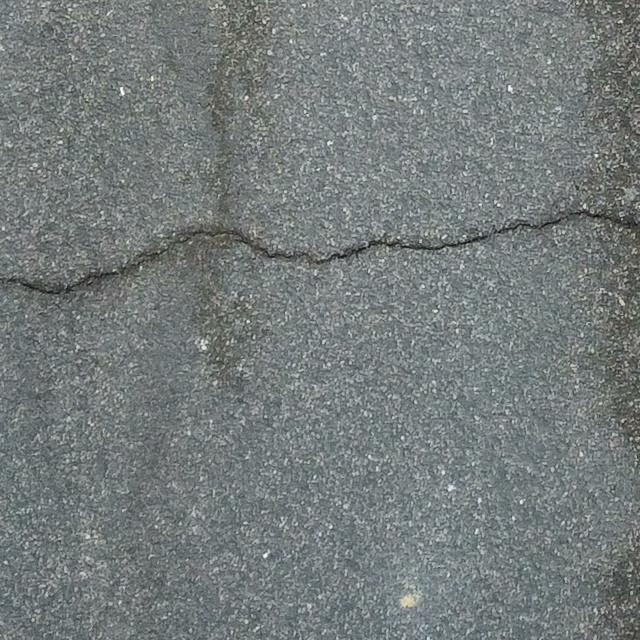TransverseCrack: (2, 210, 640, 293)
